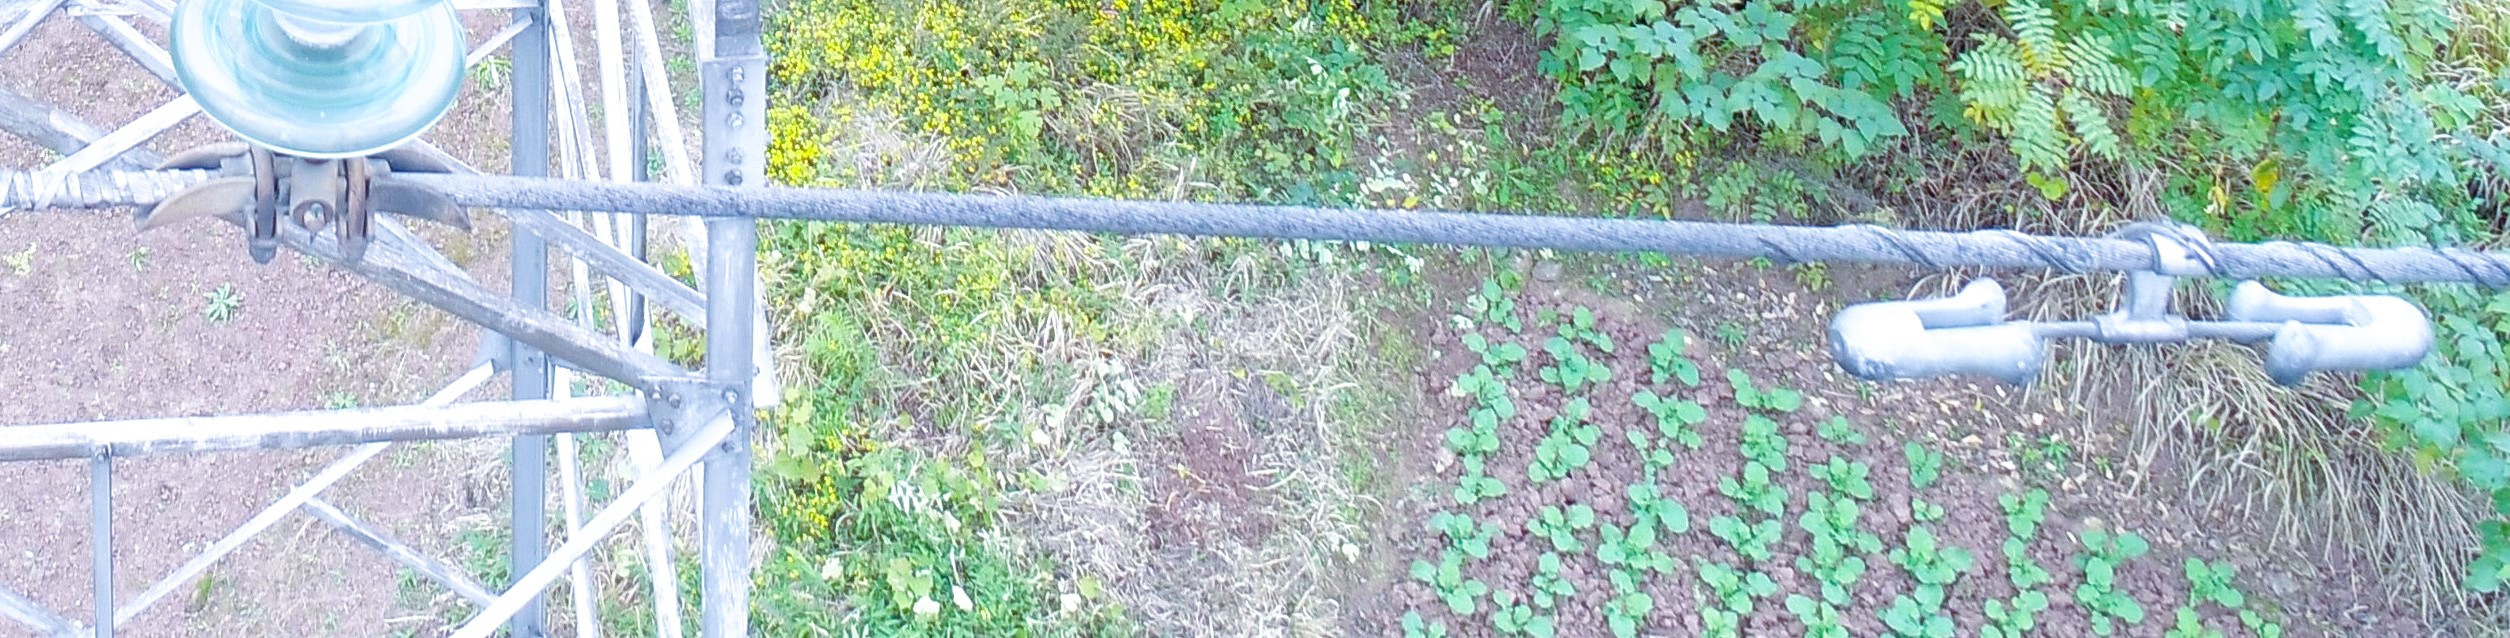Shockproof hammer: (1796, 195, 2454, 416)
